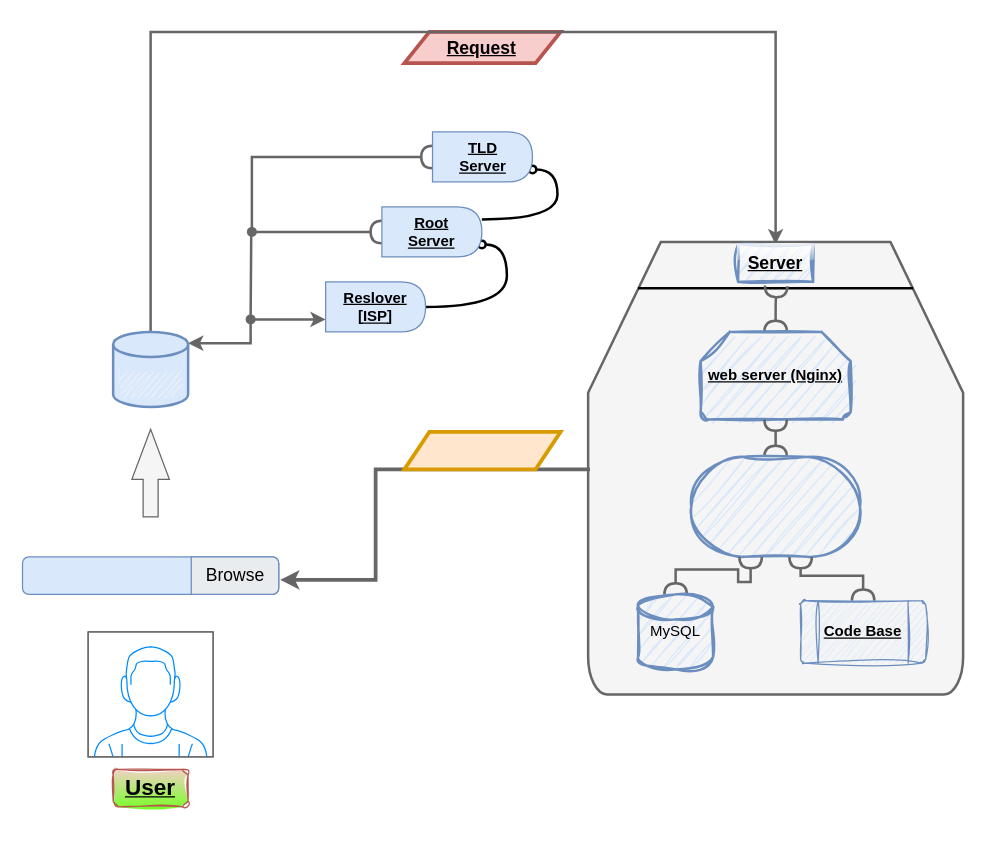
Image size: 985x841. Some labels were removed from this diagram. The shapes that lost their labels are listed below. From the top down, each one's centre as x and y in pixels, then its label:
At point 150,381: "Cache".
At point 482,450: "Response".
At point 775,506: "Application Server".
At point 150,575: "www.foobar.com".
